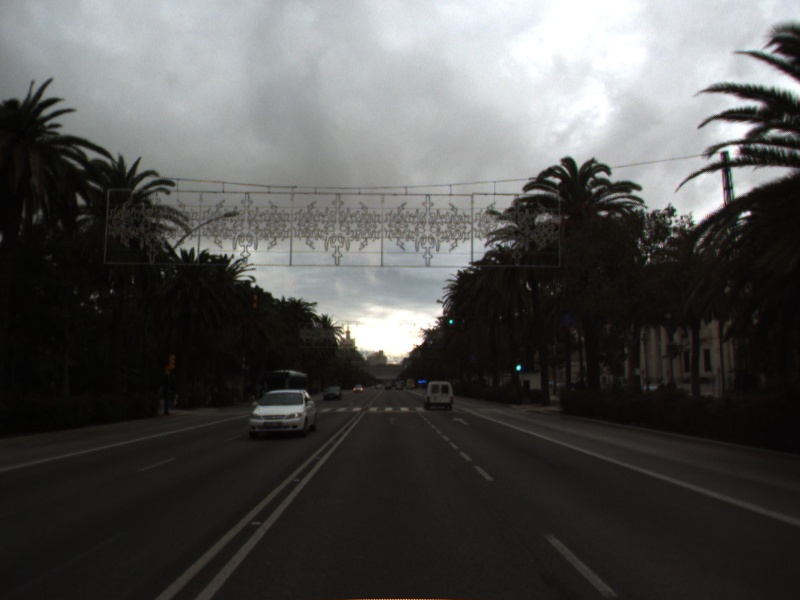STRAIGHT: (450, 415, 471, 427), (385, 415, 400, 426)
